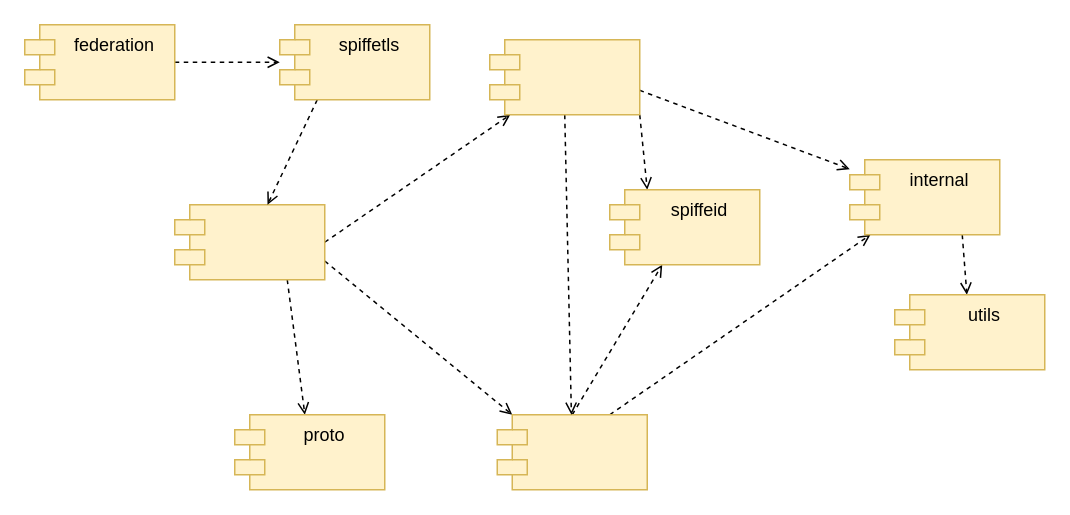
The diagram is 1070 pixels wide and 515 high, and some of its shapes have lost their labels. Each missing label, with the box of its shape:
bundle: (496, 413, 647, 490)
svid: (488, 38, 640, 115)
workload: (173, 203, 325, 280)
